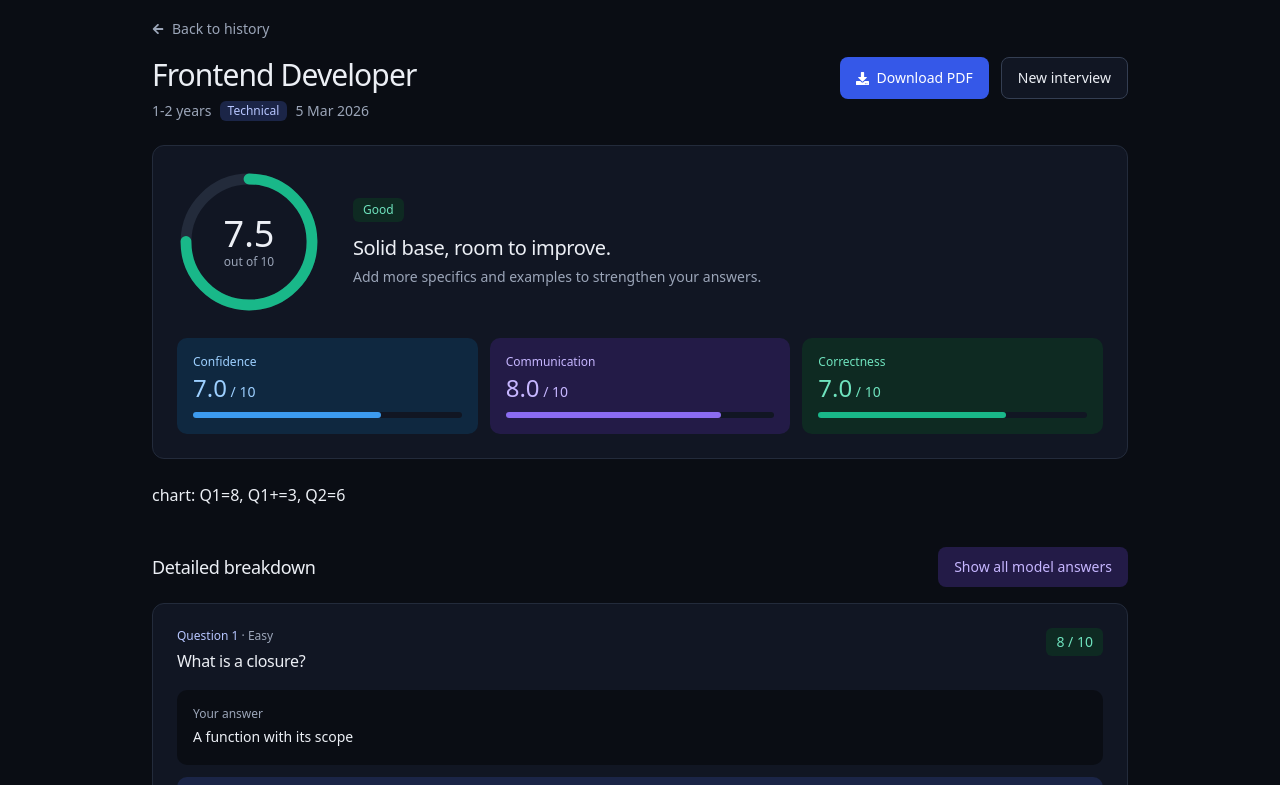
Scenario: Step3Report: model answers › 'Show all' fetches everything in one request, opens all, then hides and shows without fetching again
Click the button "Show all model answers".
click(1033, 567)  # box [938,547,1128,587]
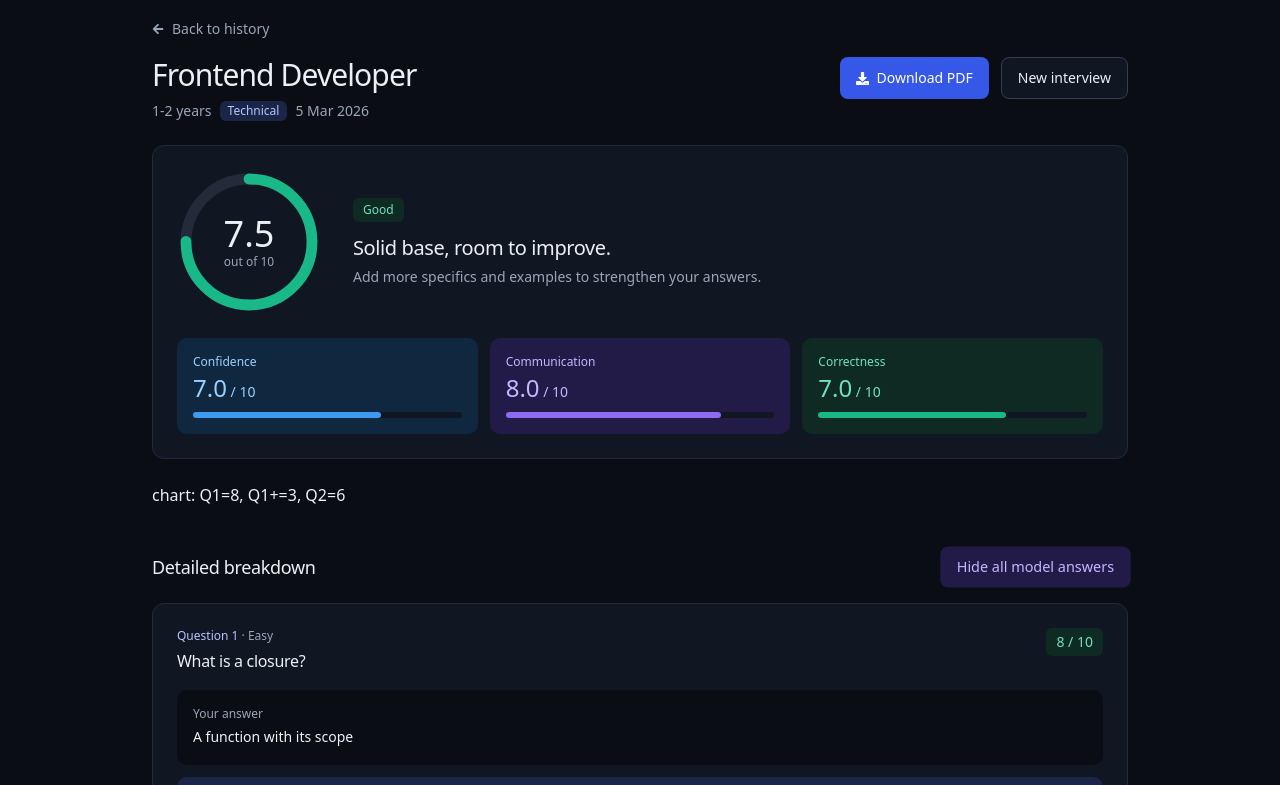
Click the button "Hide all model answers".
click(1036, 567)  # box [940,546,1131,588]
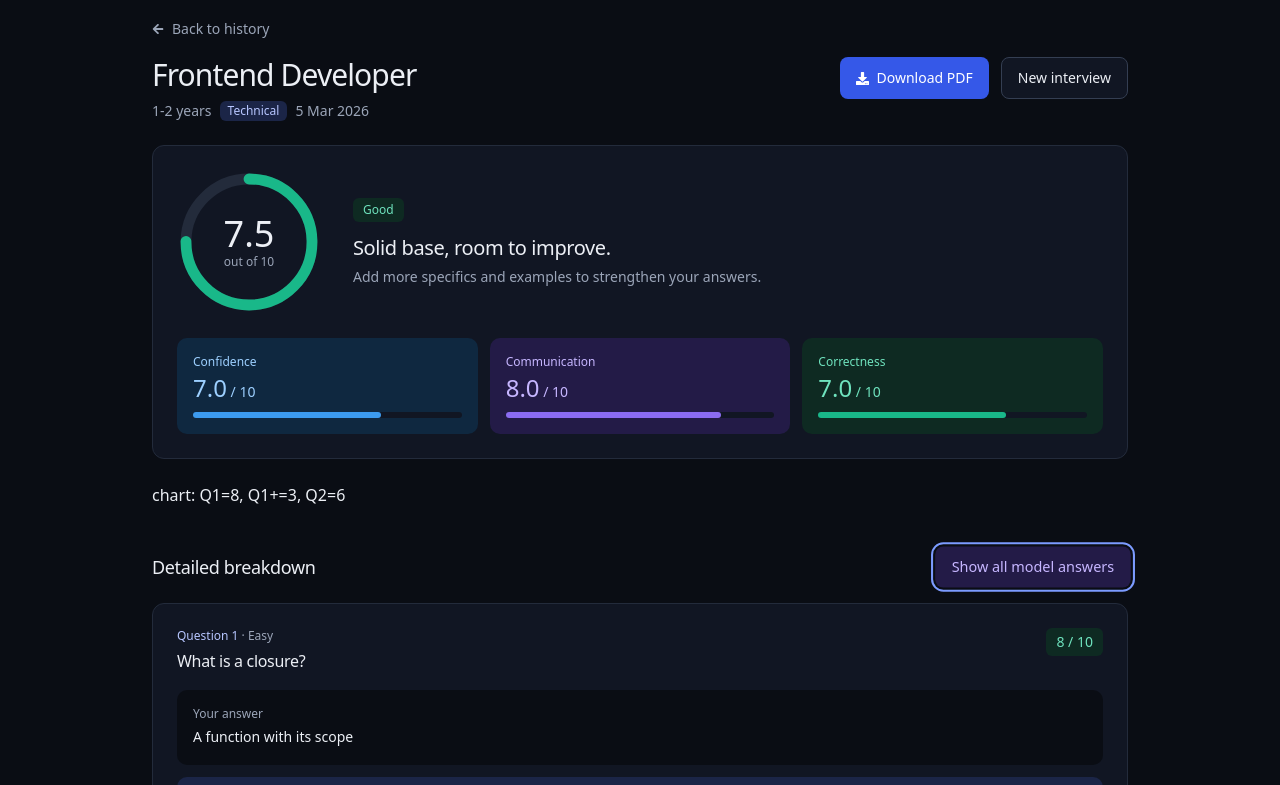
expect the text "MA zero" is not shown: met
Click the button "Show all model answers".
click(1033, 567)  # box [935,546,1131,588]
(page scrolled)
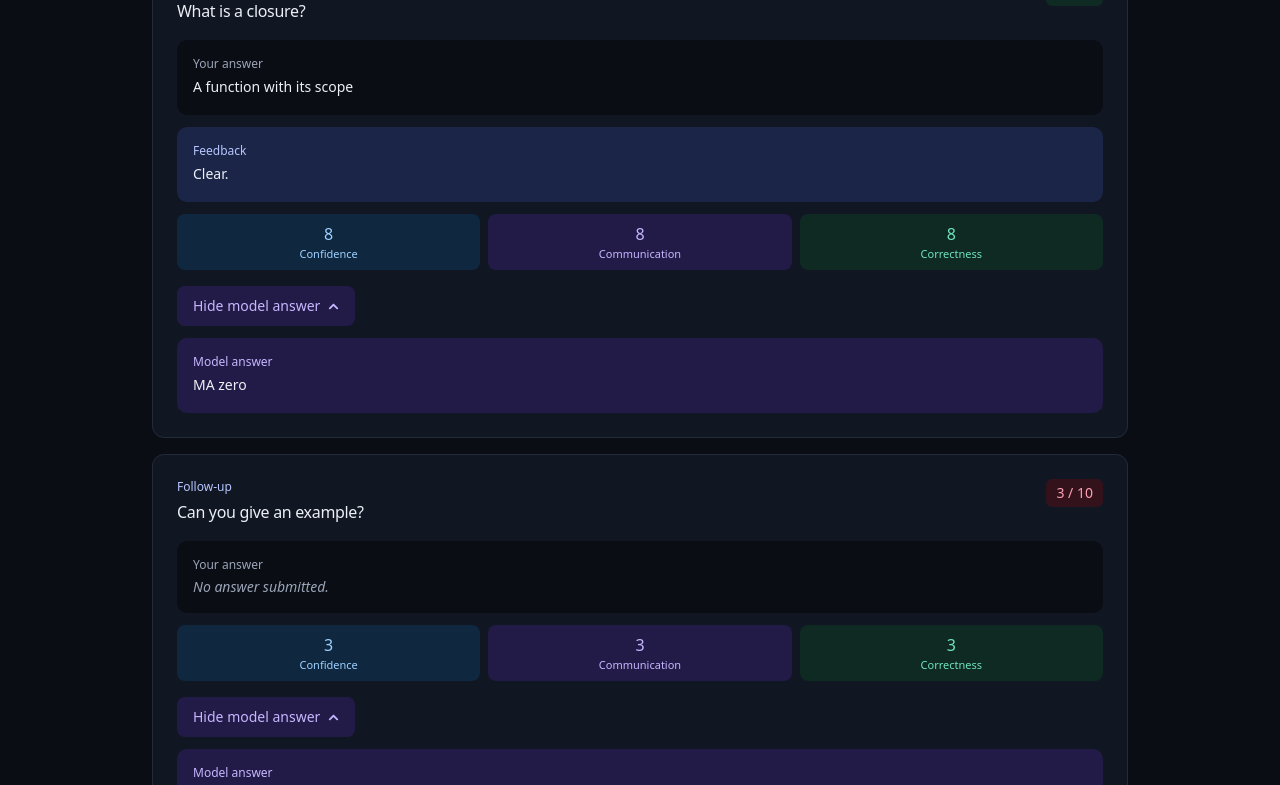
expect the text "MA zero" is shown: met, box [193,375,247,394]
